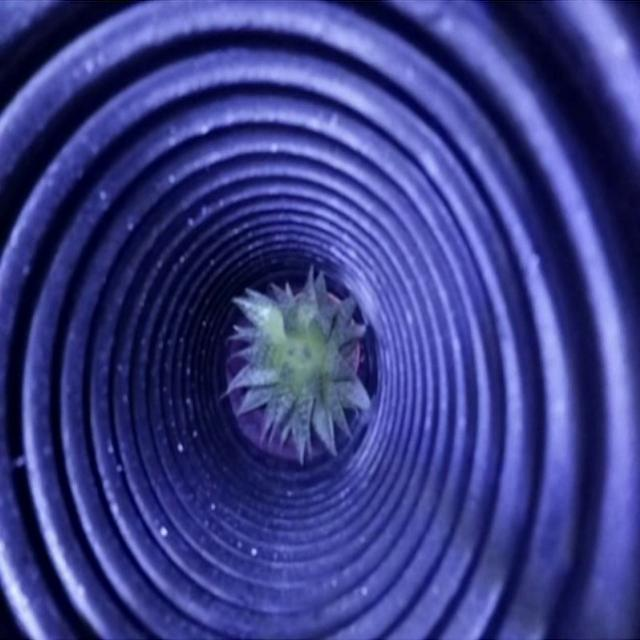leaf: (231, 283, 369, 460)
